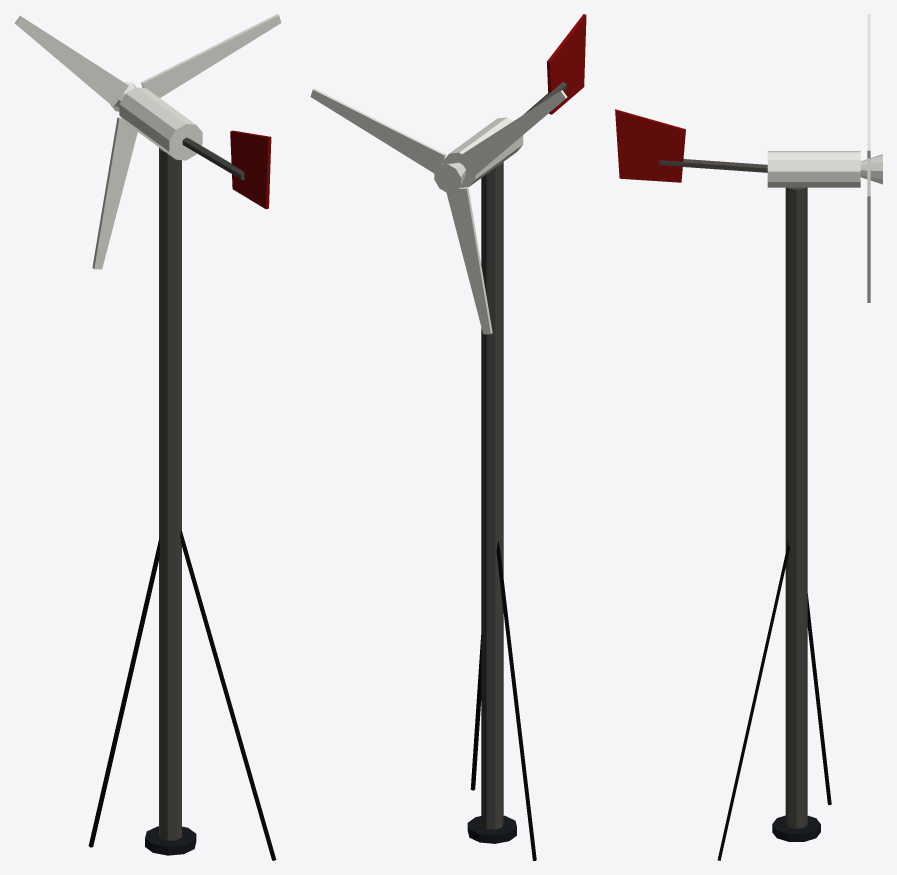
File: tb_upg_deck_turbine.glb
The picture shows the model from 3 angles, left to right: view 1: azimuth 30°, elevation 25°; view 2: azimuth 150°, elevation 25°; view 3: azimuth 270°, elevation 25°; orthographic projection. The views are drawn at different scales.
Parts seen in each view (by area): view 1: tb_upg_deck_turbine_mesh, deck_turbine_rotor_mesh; view 2: tb_upg_deck_turbine_mesh, deck_turbine_rotor_mesh; view 3: tb_upg_deck_turbine_mesh, deck_turbine_rotor_mesh.
Part boxes in pixels (box(x1,y1,x2,y2)): tb_upg_deck_turbine_mesh: box(88, 87, 276, 860); deck_turbine_rotor_mesh: box(14, 14, 281, 269); tb_upg_deck_turbine_mesh: box(443, 14, 586, 860); deck_turbine_rotor_mesh: box(310, 88, 567, 334); tb_upg_deck_turbine_mesh: box(615, 109, 860, 860); deck_turbine_rotor_mesh: box(860, 14, 882, 302).
Size of the model in its own units: 1.29 by 3.83 by 1.21.
